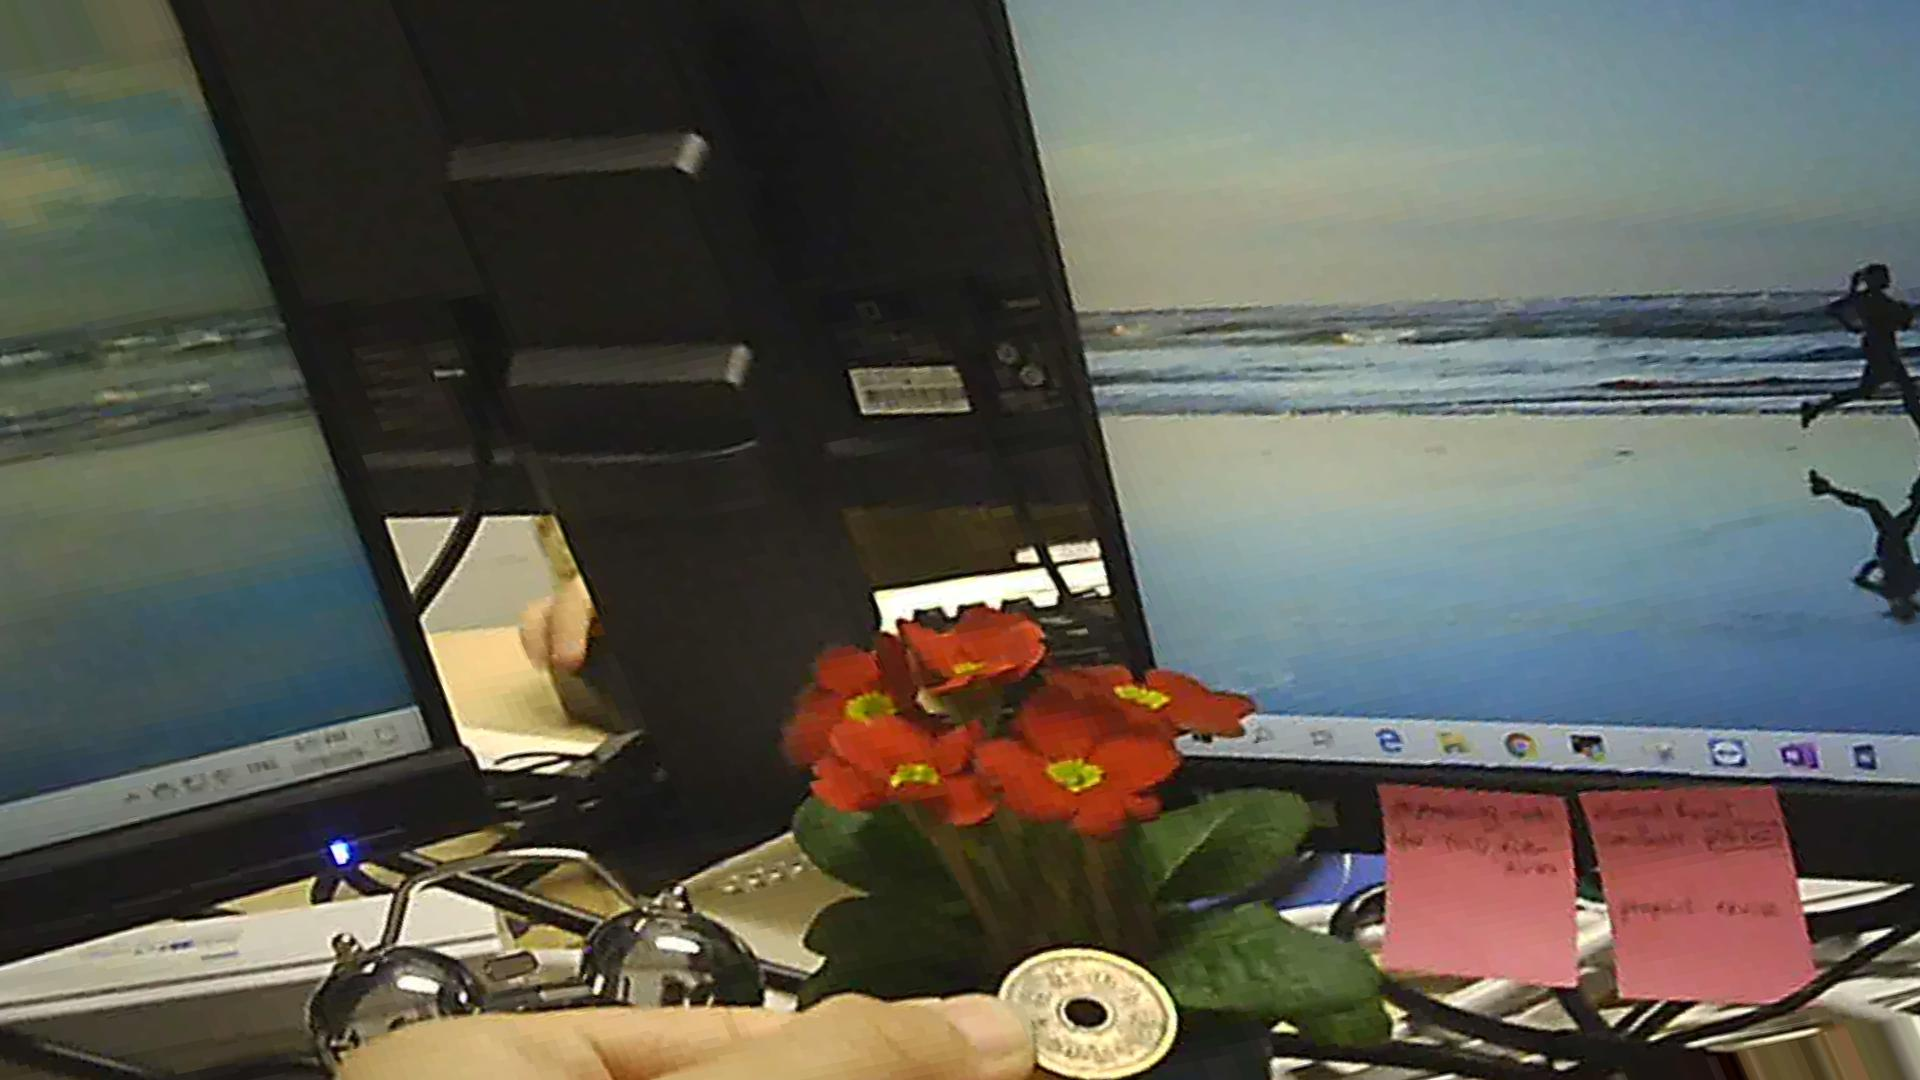5 Yen: (978, 934, 1174, 1079)
